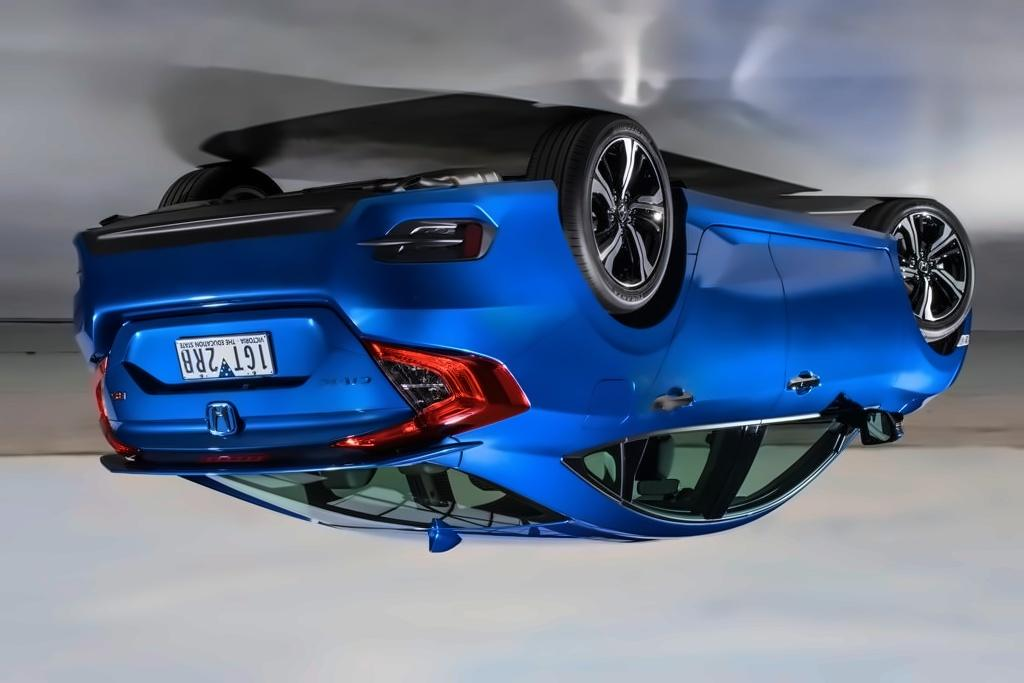Car boot: (92, 295, 462, 476)
Fender - -F-L-: (871, 246, 984, 418)
Fender - -R-L-: (460, 241, 708, 523)
Passenger-s door - -F-L-: (703, 167, 898, 555)
Passenger-s door - -R-L-: (598, 168, 793, 558)
Rear bumper: (70, 166, 588, 342)
Rear light - -L-: (332, 342, 531, 454)
Rear light - -R-: (89, 357, 140, 462)
Side bumper - -L-: (679, 169, 910, 295)
